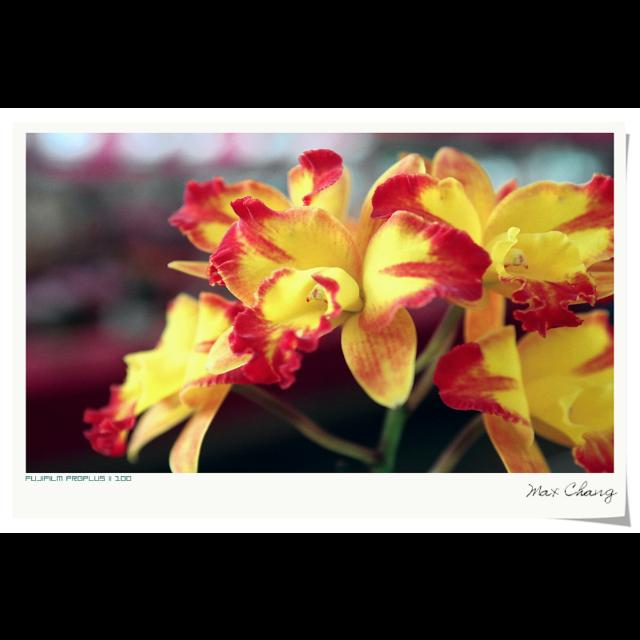Flower: (89, 148, 611, 476)
